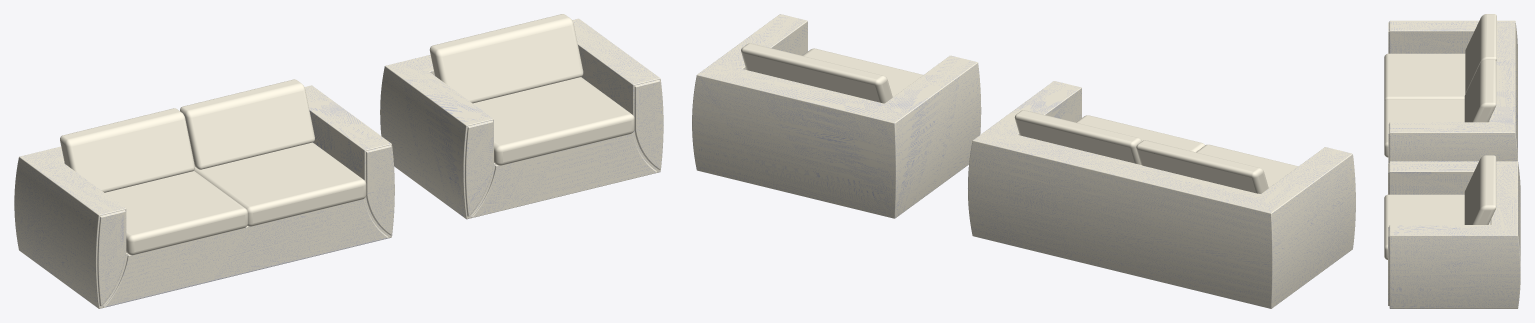
The picture shows the model from 3 angles, left to right: view 1: azimuth 30°, elevation 25°; view 2: azimuth 150°, elevation 25°; view 3: azimuth 270°, elevation 25°; orthographic projection. The views are drawn at different scales.
Parts seen in each view (by area): view 1: group_0_001, group_14, group_0, group_13, group_11, group_3, group_7, group_6, group_4, group_14_001, group_14_002, group_0_002 (+2 smaller); view 2: group_0_001, group_14, group_13, group_6, group_7, group_11, group_3, group_4; view 3: group_14, group_0_001, group_4, group_11, group_3, group_13, group_7, group_6, group_14_003.
Part boxes in pixels (x1,y1,x2,y2): group_0_001: [14, 85, 394, 308]; group_14: [380, 18, 663, 219]; group_0: [103, 199, 388, 307]; group_13: [429, 14, 583, 103]; group_11: [473, 77, 634, 165]; group_3: [194, 142, 366, 226]; group_7: [180, 79, 314, 169]; group_6: [60, 108, 194, 192]; group_4: [105, 171, 247, 255]; group_14_001: [470, 133, 656, 217]; group_14_002: [464, 120, 493, 216]; group_0_002: [97, 210, 125, 306]; group_0_001: [968, 81, 1355, 308]; group_14: [692, 14, 981, 218]; group_13: [741, 43, 892, 103]; group_6: [1136, 140, 1268, 193]; group_7: [1014, 110, 1141, 164]; group_11: [802, 48, 922, 96]; group_3: [1076, 115, 1204, 152]; group_4: [1196, 144, 1298, 187]; group_14: [1389, 161, 1520, 308]; group_0_001: [1389, 20, 1517, 161]; group_4: [1384, 53, 1465, 101]; group_11: [1384, 194, 1488, 259]; group_3: [1384, 99, 1488, 157]; group_13: [1464, 155, 1496, 224]; group_7: [1464, 59, 1496, 122]; group_6: [1465, 14, 1496, 93]; group_14_003: [1388, 226, 1389, 305].
Bounding box in the file's own units: 3.8 × 1.01 × 0.7789.
